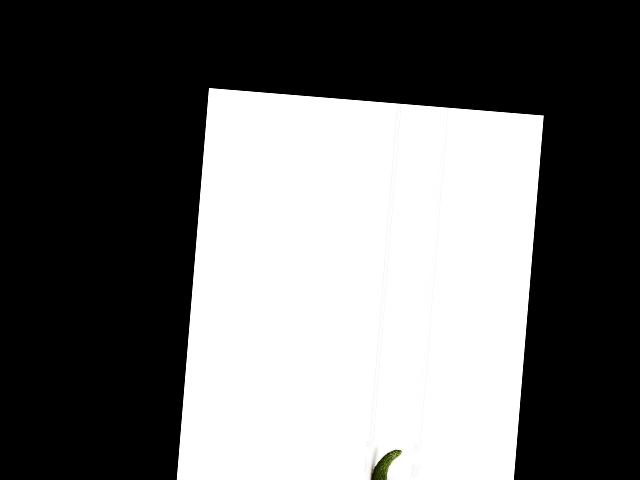cucumber: (368, 448, 401, 480)
